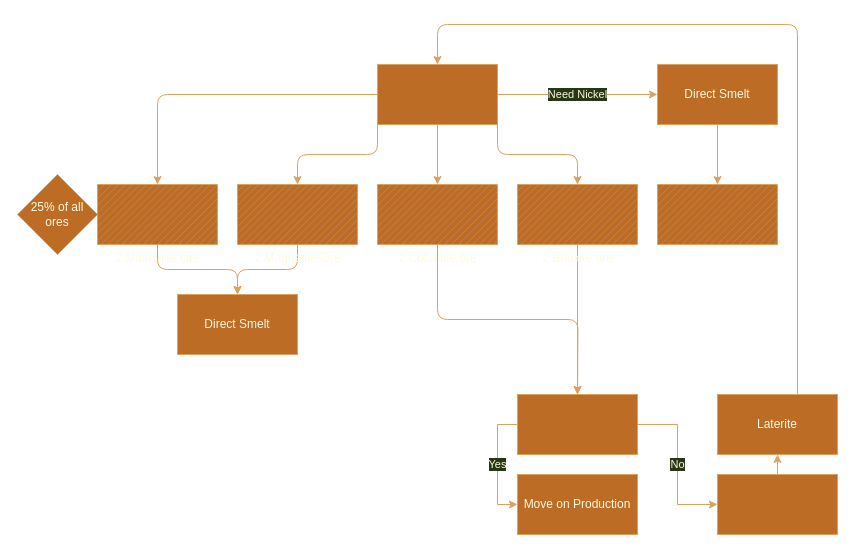
Some shapes in this 863 by 552 pixel diagram are drawn without their labels. Here are the shapes that lost their labels. From the top down, the box of each, then its label:
(376, 64, 498, 124): 8 Laterite
(656, 184, 778, 244): 4 Nickel Plate
(516, 394, 638, 454): Use this ore?
(716, 474, 838, 534): 8 of ores Plus 4 slag
